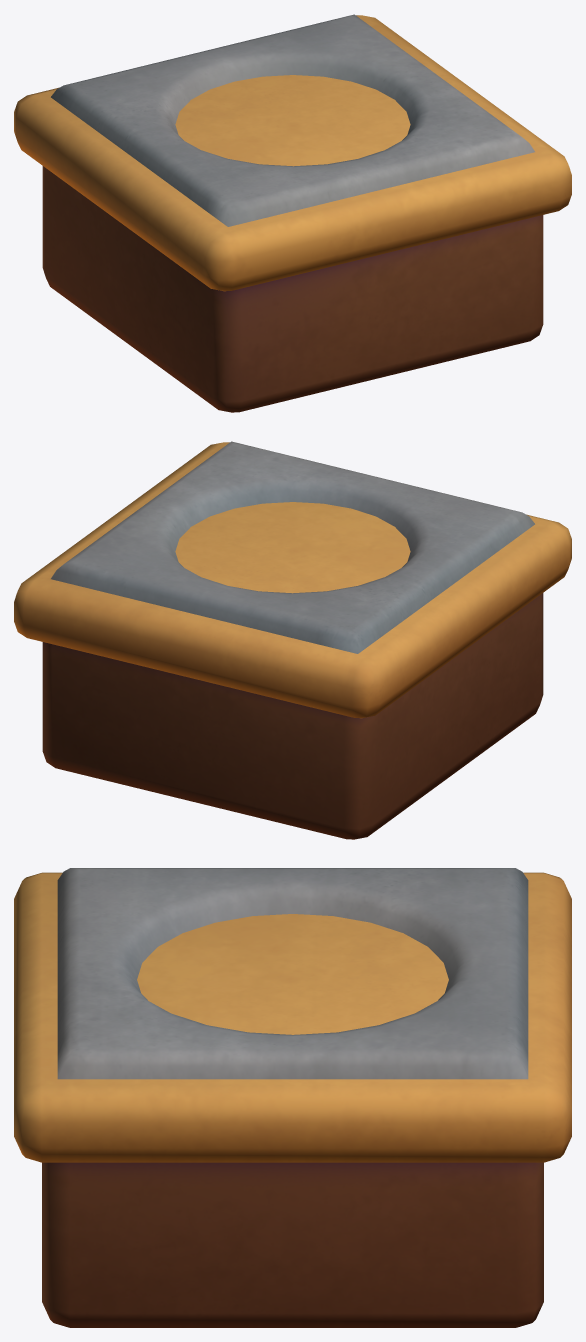
The model's file is PlatesCounter.fbx.
The picture shows the model from 3 angles, top to bottom: view 1: azimuth 30°, elevation 25°; view 2: azimuth 150°, elevation 25°; view 3: azimuth 270°, elevation 25°; orthographic projection. The views are drawn at different scales.
Parts seen in each view (by area): view 1: PlatesCounter.Base, PlatesCounter.PlateHolder; view 2: PlatesCounter.Base, PlatesCounter.PlateHolder; view 3: PlatesCounter.Base, PlatesCounter.PlateHolder.
Boxes of the visible parts, x1,y1,x2,y2 form: PlatesCounter.Base: (14,15,571,412); PlatesCounter.PlateHolder: (51,14,534,226); PlatesCounter.Base: (14,442,571,839); PlatesCounter.PlateHolder: (51,441,534,653); PlatesCounter.Base: (14,872,571,1327); PlatesCounter.PlateHolder: (57,868,528,1079).
Size of the model in its own units: 100 by 54 by 100.
